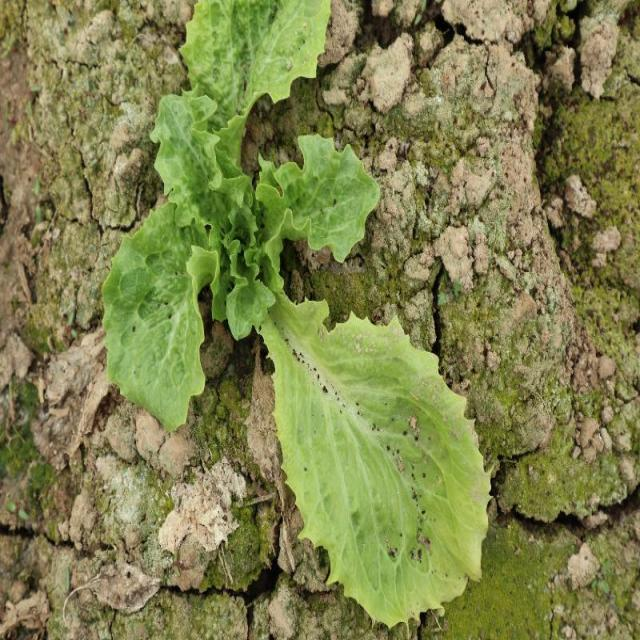crop: (98, 0, 494, 629)
